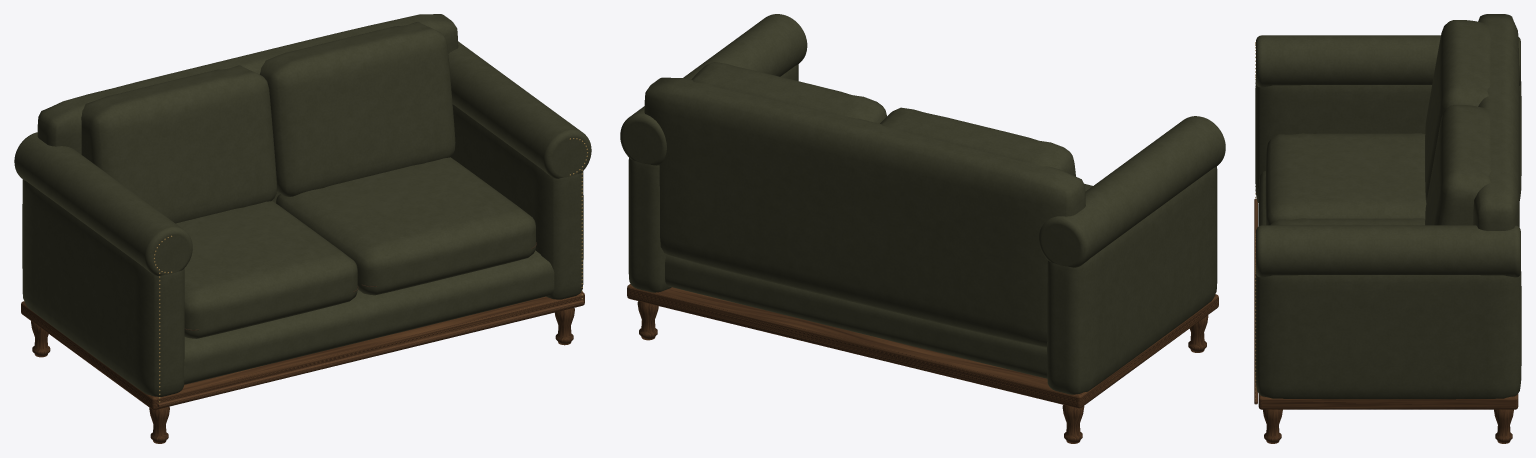
Rendered from dark_academia_sofa_2_lugares.glb.
The picture shows the model from 3 angles, left to right: view 1: azimuth 30°, elevation 25°; view 2: azimuth 150°, elevation 25°; view 3: azimuth 270°, elevation 25°; orthographic projection. The views are drawn at different scales.
Parts seen in each view (by area): view 1: sofa_2_lugares; view 2: sofa_2_lugares; view 3: sofa_2_lugares.
Part boxes in pixels (bbox=[...]): sofa_2_lugares: bbox=[14, 14, 591, 443]; sofa_2_lugares: bbox=[620, 14, 1225, 443]; sofa_2_lugares: bbox=[1254, 14, 1521, 443].
Bounding box in the file's own units: 1.59 × 0.8674 × 0.8443.
5 materials, 3 textured.
